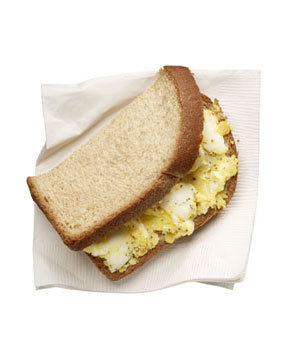slice of bread: (145, 73, 195, 171)
